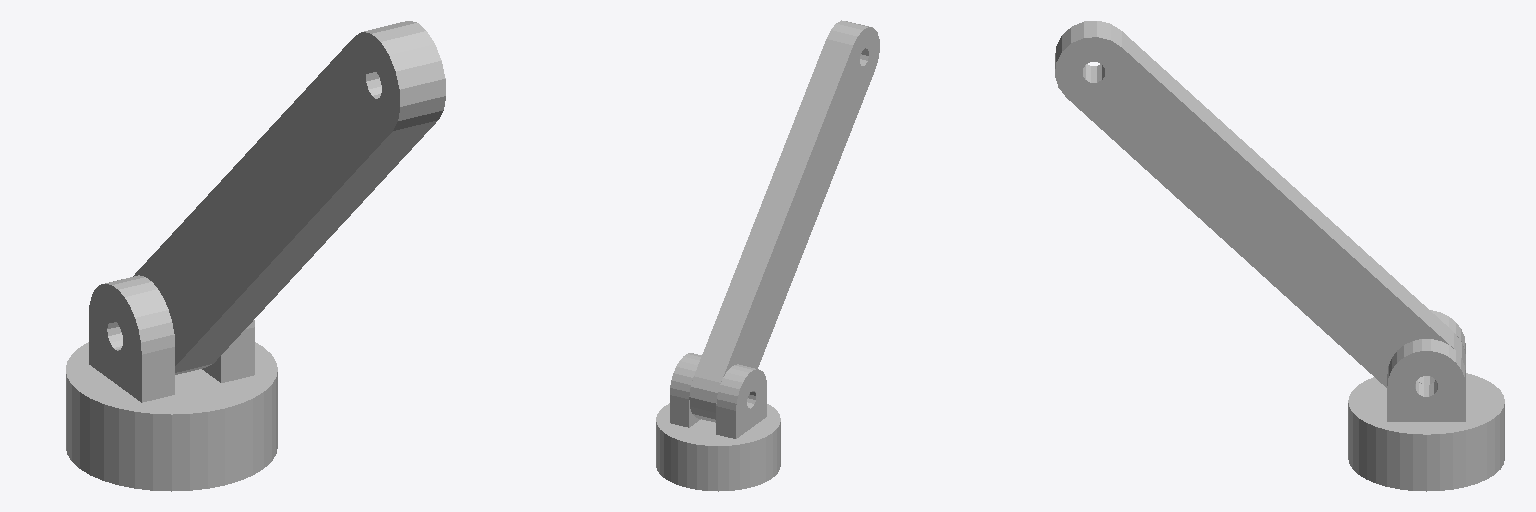
robot.urdf — my_robot:
<?xml version="1.0" ?>
<robot name="my_robot" xmlns:xacro="http://www.ros.org/wiki/xacro">
    
    <!-- 1st link -->
  <link name="base_link">
    <static>true</static>
    <visual>
      <origin xyz="0 0 0" rpy="0 0 0"/>
      <geometry>
        <!--box size="1 1 1"/-->
        <mesh filename="package://robot_simulation/robot_description/meshes/base_link.STL" scale="0.001 0.001 0.001"/>
      </geometry>
      
      <material name="grey">
        <color rgba="0.8 0.8 0.8 1"/>
      </material>
    </visual>

    <collision>
      <origin xyz="0 0 0" rpy="0 0 0"/>
      <geometry>
        <!--box size="1 1 1"/-->
        <mesh filename="package://robot_simulation/robot_description/meshes/base_link.STL" scale="0.001 0.001 0.001"/>
      </geometry>
    </collision>

    <inertial>
      <mass value="1"/>
      <origin xyz="0 0 0.0" rpy="0 0 0"/>
      <inertia ixx="0.02" ixy="0.0" ixz="0.0" iyy="0.02" iyz="0.0" izz="0.01"/>
    </inertial>    
  </link>

  <joint name="joint_1" type="continuous">
    <origin xyz="0 0 0.130" rpy="0.785 0 0" />
    <parent link="base_link" />
    <child link="first_link" />

    <dynamics damping="0.001" friction="0.0" />
  </joint>

    <!-- 2nd link -->
  <link name="first_link">
    <visual>
      <origin xyz="0 0 0.300" rpy="0 0 0"/>
      <geometry>
        <!--box size="1 1 1"/-->
        <mesh filename="package://robot_simulation/robot_description/meshes/first_link.STL" scale="0.001 0.001 0.001"/>
      </geometry>
      
      <material name="grey">
        <color rgba="0.8 0.8 0.8 1"/>
      </material>
    </visual>

    <collision>
      <origin xyz="0 0 .300" rpy="0 0 0"/>
      <geometry>
        <!--box size="1 1 1"/-->
        <mesh filename="package://robot_simulation/robot_description/meshes/first_link.STL" scale="0.001 0.001 0.001"/>
      </geometry>
    </collision>

    <inertial>
      <mass value="1" />
      <origin xyz="0 0 0.300" rpy="0 0 0" />
      <inertia ixx="0.13" ixy="0.0" ixz="0.0" iyy="0.13" iyz="0.0" izz="0.0001" />
    </inertial>    
  </link>





</robot>

--- Render facts (derived) ---
The picture shows the robot from 3 angles, left to right: view 1: azimuth 30°, elevation 25°; view 2: azimuth 150°, elevation 25°; view 3: azimuth 270°, elevation 25°; orthographic projection.
Robot: my_robot — 2 links, 1 joints (1 continuous); root link base_link; default pose: every joint at zero.
Visible links, largest first — view 1: first_link, base_link; view 2: first_link, base_link; view 3: first_link, base_link.
Boxes of the visible links, x1,y1,x2,y2 form: first_link: (133, 21, 445, 374); base_link: (66, 275, 277, 491); first_link: (689, 20, 879, 422); base_link: (656, 353, 780, 491); first_link: (1055, 21, 1465, 387); base_link: (1348, 310, 1504, 491).
Size in the robot's own frame: 0.2 by 0.5739 by 0.6042 metres.
Meshes: 2 distinct files referenced, 2 mesh visuals loaded (2 binary STL).